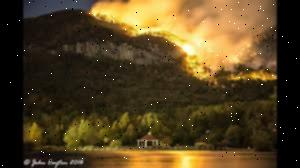fire: (91, 4, 284, 94)
